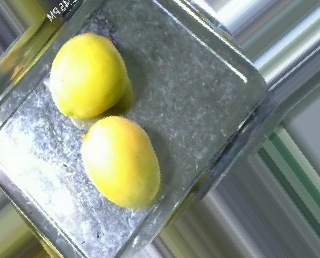Mango: (80, 116, 159, 206), (51, 34, 129, 117)
